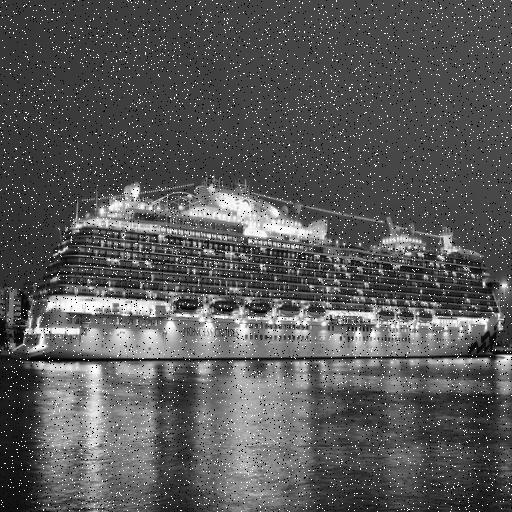cruises: (9, 172, 510, 370)
